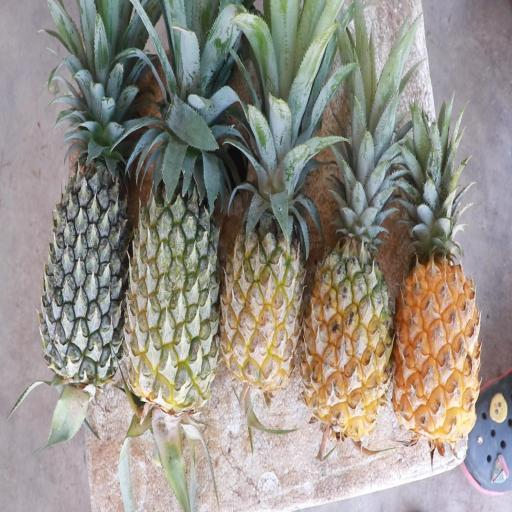------------------------------: (128, 143, 220, 416)
Pineapple - v8 v1: (391, 223, 479, 441), (306, 200, 390, 425), (224, 166, 305, 388)
